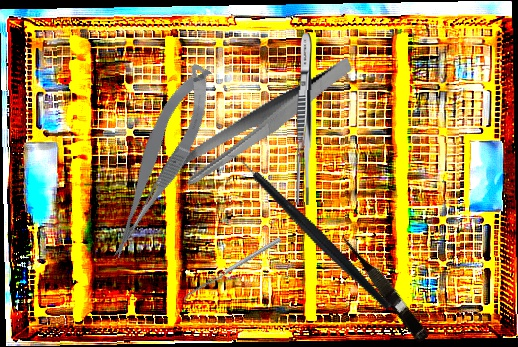Chopper: (216, 115, 395, 347)
Dressing Forceps: (149, 57, 371, 191), (294, 32, 315, 206)
Micro Scissor: (85, 59, 232, 264), (336, 228, 433, 344)
Spatula Surgical: (180, 237, 285, 304)
